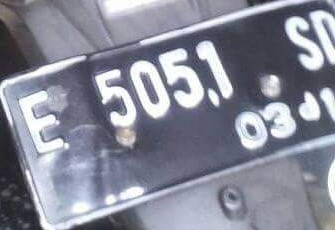plate: (3, 3, 334, 228)
